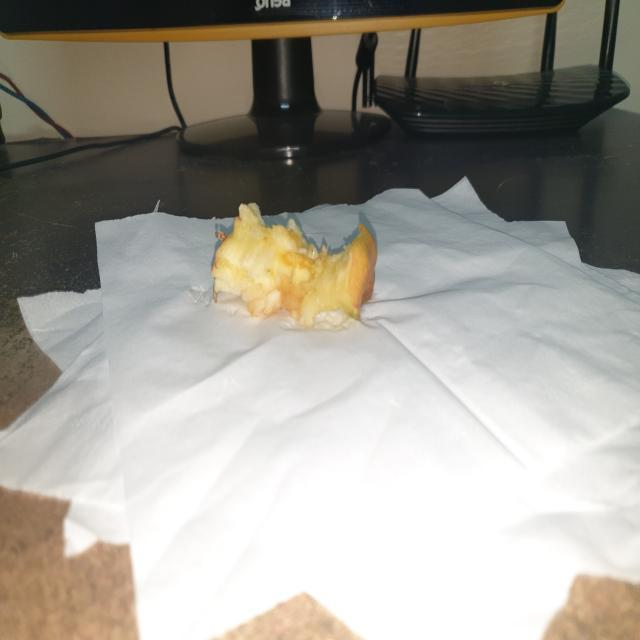apple: (198, 197, 382, 332)
